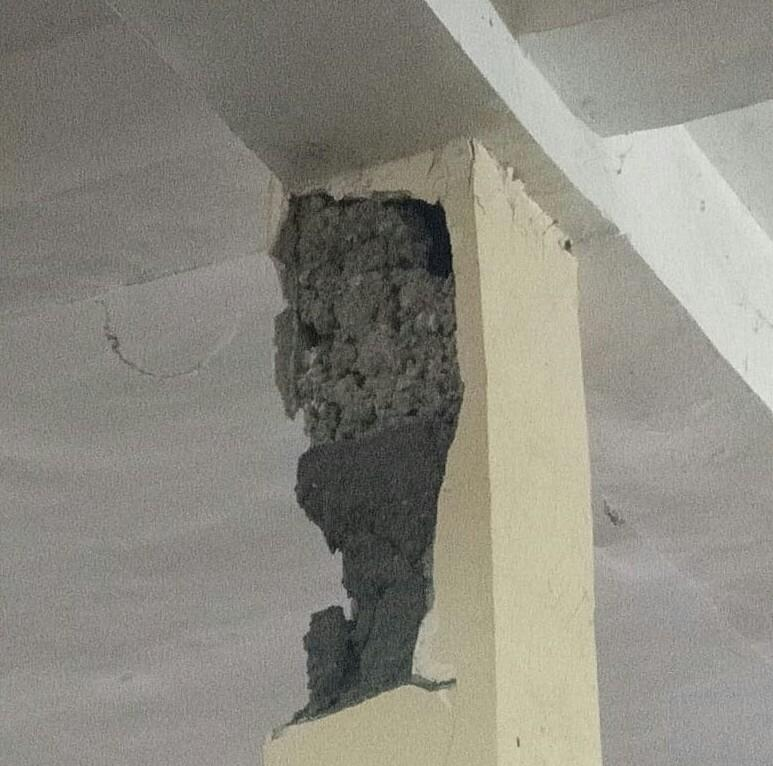spalling: (270, 190, 464, 724)
